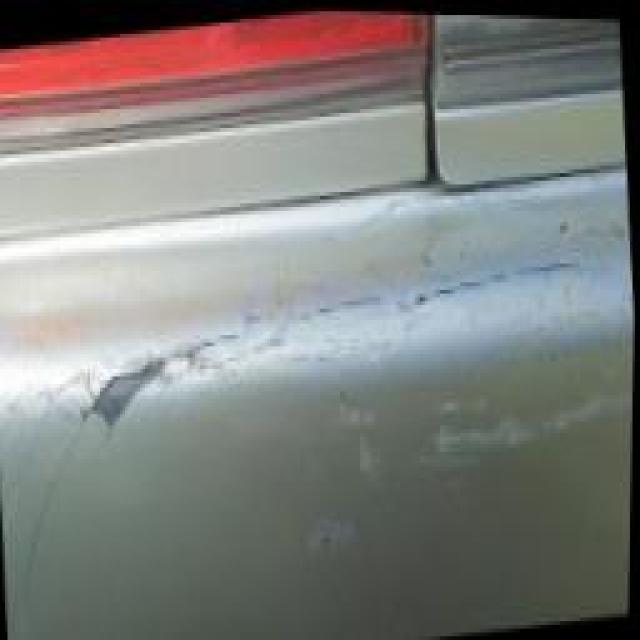Bumper: (0, 56, 639, 640)
